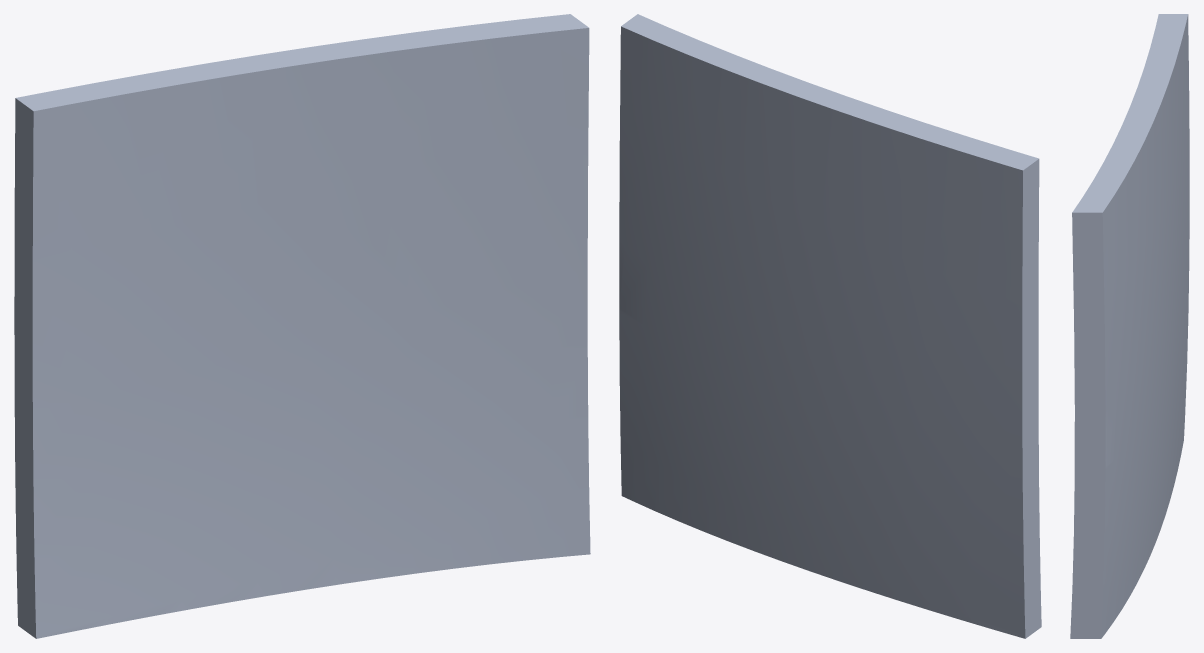
Rendered from UA_26EV_BottomSeatMounting__UA_26EV_BottomSeatMounting_BackingPlate_1.dae.
3 views of the same model, side by side, from view 1: azimuth 30°, elevation 25°; view 2: azimuth 150°, elevation 25°; view 3: azimuth 270°, elevation 25° (orthographic). The views are drawn at different scales.
Visible parts, largest first — view 1: node0; view 2: node0; view 3: node0.
Part boxes in pixels (box(x1,y1,x2,y2)): node0: box(14, 14, 590, 638); node0: box(619, 14, 1041, 638); node0: box(1070, 14, 1189, 638).
Bounding box in the file's own units: 0.0508 × 0.0508 × 0.0129.
